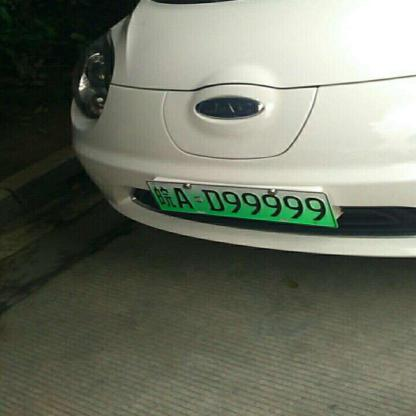lp: (148, 182, 335, 226)
